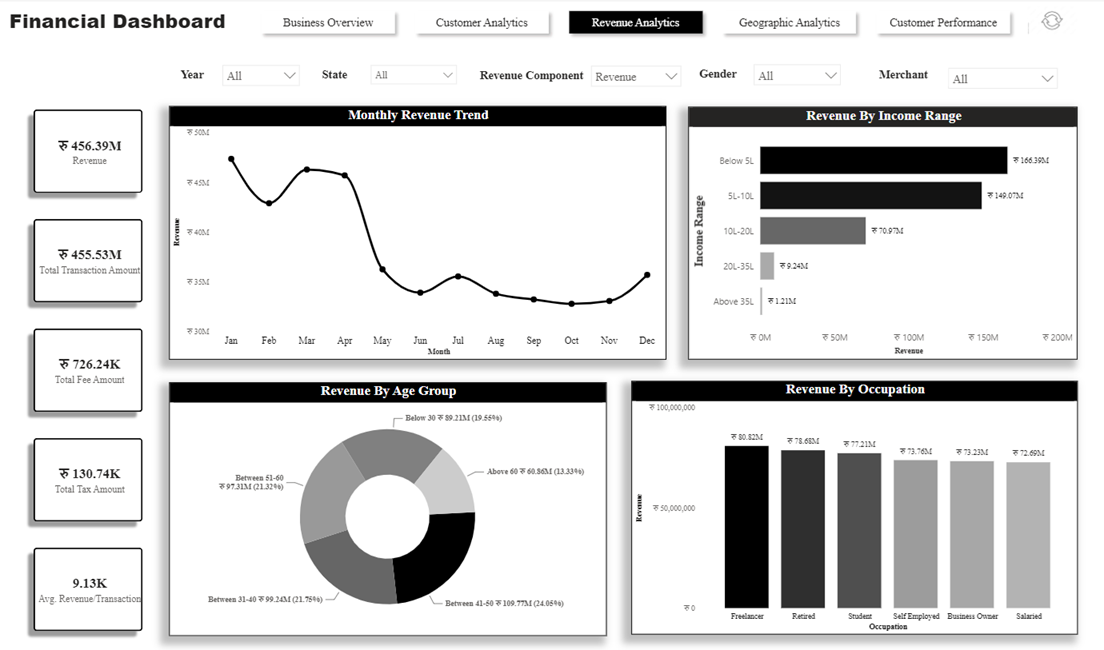

This screenshot's page, from the dashboard's own definition file:
{"tool":"powerbi","page":{"name":"Revenue Analytics","canvas":[1500,900],"ordinal":2},"visuals":[{"type":"group","id":"g1","title":"Group 1","box":[225,76.8,191.2,48.2],"z":0,"group":"g2"},{"type":"cardVisual","fields":{"Data":["finance_transactions csv.Revenue","finance_transactions csv.Total Transaction Amount","finance_transactions csv.Total Fee Amount","finance_transactions csv.Total Tax Amount","finance_transactions csv.Avg. Revenue/Transaction"]},"box":[8.4,117.7,213,782.3],"z":0},{"type":"group","id":"g2","title":"Group 5","box":[225,76,1235.7,49.9],"z":1000},{"type":"group","id":"g3","title":"Group 3","box":[413.2,76.8,218.8,46.5],"z":1000,"group":"g2"},{"type":"group","id":"g4","title":"Group 2","box":[941.5,76,220.1,46.9],"z":2000,"group":"g2"},{"type":"lineChart","title":"Monthly Revenue Trend","fields":{"Category":["finance_transactions csv.Transaction_Month_Name"],"Y":["finance_transactions csv.Revenue"]},"box":[225.3,143.9,685.2,350.4],"z":2000},{"type":"group","id":"g5","title":"Group 4","box":[644.5,78.1,296.7,45],"z":3000,"group":"g2"},{"type":"donutChart","title":"Revenue By Age Group","fields":{"Category":["customers csv.age_group"],"Y":["finance_transactions csv.Revenue"]},"box":[225.3,524.6,602.8,350.4],"z":3000},{"type":"group","id":"g6","title":"Group 2","box":[1176.2,81,284.5,44.8],"z":4000,"group":"g2"},{"type":"clusteredColumnChart","title":"Revenue By Occupation","fields":{"Category":["customers csv.occupation"],"Y":["finance_transactions csv.Revenue"]},"box":[862.2,523.3,615.6,350],"z":4000},{"type":"clusteredBarChart","title":"Revenue By Income Range","fields":{"Category":["customers csv.income_range"],"Y":["finance_transactions csv.Revenue"]},"box":[940.8,145,537.1,349.4],"z":5000},{"type":"actionButton","box":[1408.5,0,69.2,51.7],"z":6000},{"type":"slicer","fields":{"Values":["finance_transactions csv.Transaction_Year"]},"box":[288.7,76.8,126.9,47.2],"z":6000,"group":"g1"},{"type":"textbox","box":[0,2.1,312.1,51.7],"z":7000},{"type":"slicer","fields":{"Values":["customers csv.state"]},"box":[492.6,76.8,139.4,45.8],"z":7000,"group":"g3"},{"type":"pageNavigator","box":[343.1,4.1,1053,49.6],"z":8000},{"type":"slicer","fields":{"Values":["Revenue Component.Revenue Components"]},"box":[796.7,78.1,144.6,45],"z":8000,"group":"g5"},{"type":"slicer","fields":{"Values":["customers csv.gender"]},"box":[1021.4,76,140.3,46.7],"z":9000,"group":"g4"},{"type":"slicer","fields":{"Values":["finance_transactions csv.merchant_category"]},"box":[1289.7,81,171,44.8],"z":9000,"group":"g6"},{"type":"textbox","box":[941.5,84.2,80,31.3],"z":10000,"group":"g4"},{"type":"textbox","box":[225,85.2,63.7,30.8],"z":10000,"group":"g1"},{"type":"textbox","box":[1176.2,86.3,123.1,30.2],"z":10000,"group":"g6"},{"type":"textbox","box":[413.2,84.6,79.3,29.7],"z":10002,"group":"g3"},{"type":"textbox","box":[644.5,86.7,160,30],"z":10002,"group":"g5"}]}

Visuals, with their boxes in screenshot pixels (x1, y1, x2, y2), scaled from the page's 1500x900 canvas onto the 1104x650 screenshot:
"Group 1" group: (166,55,306,90)
cardVisual - finance_transactions csv.Revenue x finance_transactions csv.Total Transaction Amount: (6,85,163,649)
"Group 5" group: (166,55,1075,91)
"Group 3" group: (304,55,465,89)
"Group 2" group: (693,55,855,89)
"Monthly Revenue Trend" lineChart: (166,104,670,357)
"Group 4" group: (474,56,693,89)
"Revenue By Age Group" donutChart: (166,379,609,632)
"Group 2" group: (866,58,1075,91)
"Revenue By Occupation" clusteredColumnChart: (635,378,1088,631)
"Revenue By Income Range" clusteredBarChart: (692,105,1088,357)
actionButton: (1037,0,1088,37)
slicer - finance_transactions csv.Transaction_Year: (212,55,306,90)
textbox: (0,2,230,39)
slicer - customers csv.state: (363,55,465,89)
pageNavigator: (253,3,1028,39)
slicer - Revenue Component.Revenue Components: (586,56,693,89)
slicer - customers csv.gender: (752,55,855,89)
slicer - finance_transactions csv.merchant_category: (949,58,1075,91)
textbox: (693,61,752,83)
textbox: (166,62,212,84)
textbox: (866,62,956,84)
textbox: (304,61,362,83)
textbox: (474,63,592,84)
